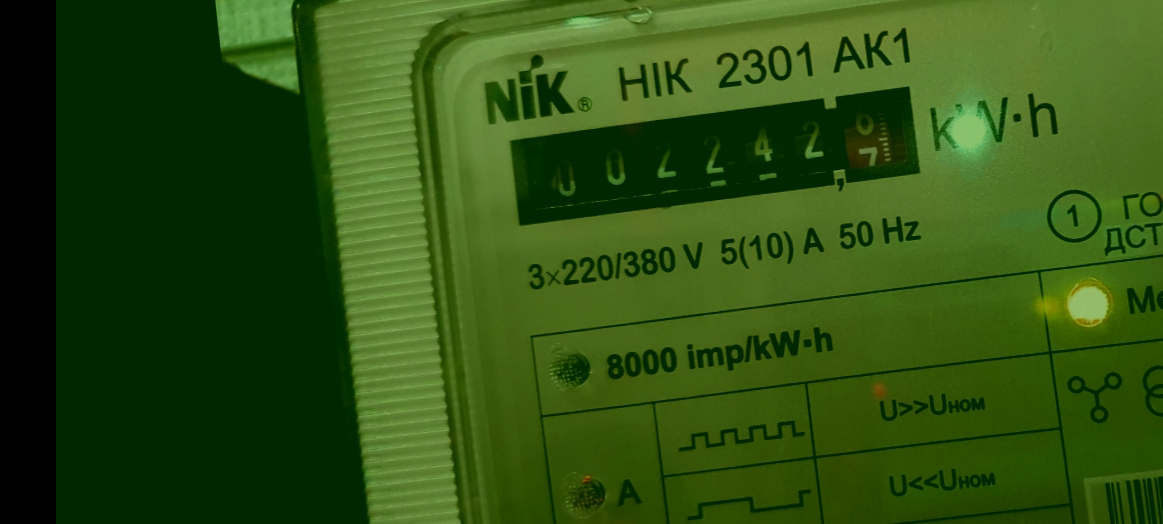0: (601, 143, 631, 188), (652, 136, 681, 181), (554, 154, 580, 200)
2: (799, 116, 828, 162), (701, 131, 729, 177)
4: (750, 120, 777, 165)
6: (852, 102, 879, 138)
7: (857, 144, 882, 169)
screen: (499, 74, 941, 242)
